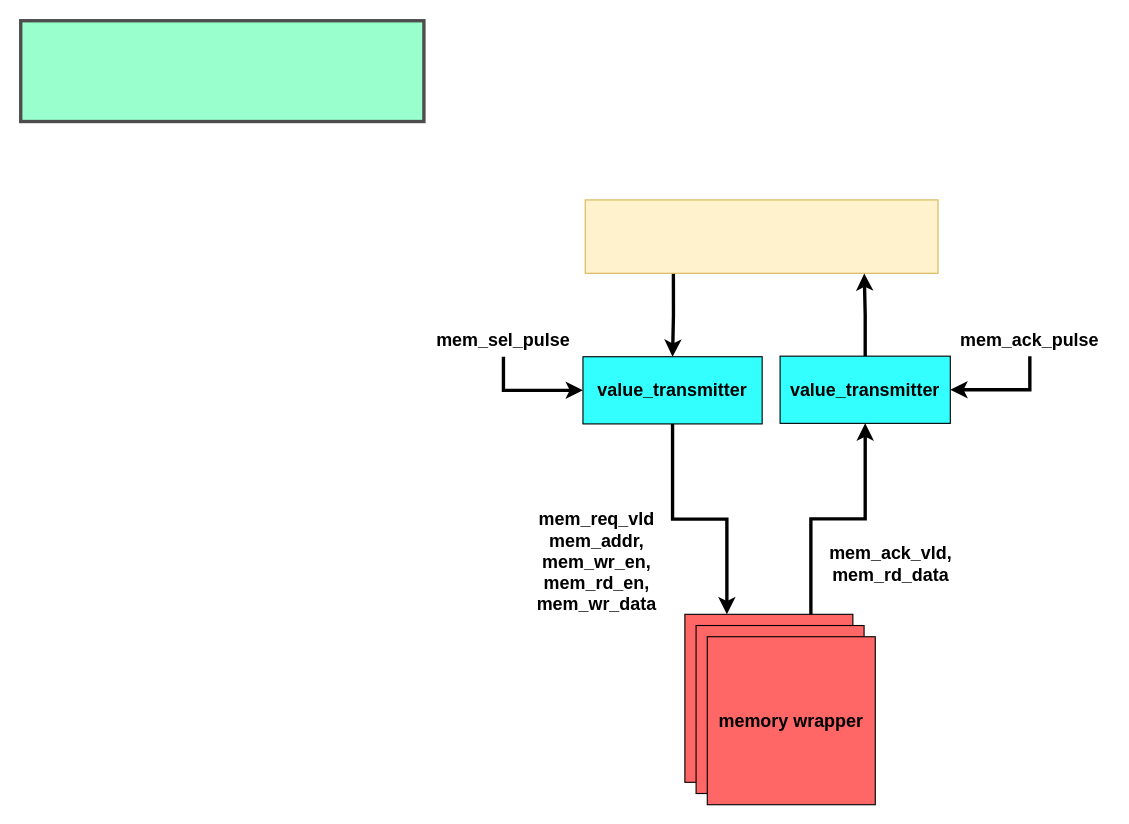
Some shapes in this 1129 by 824 pixel diagram are drawn without their labels. The shapes that lost their labels are listed below. From the top down, each one's centre as x and y in pixels, then its label:
At point (221, 70): "Register Dispatcher (regdisp)".
At point (761, 236): "snapshot_mem*".
